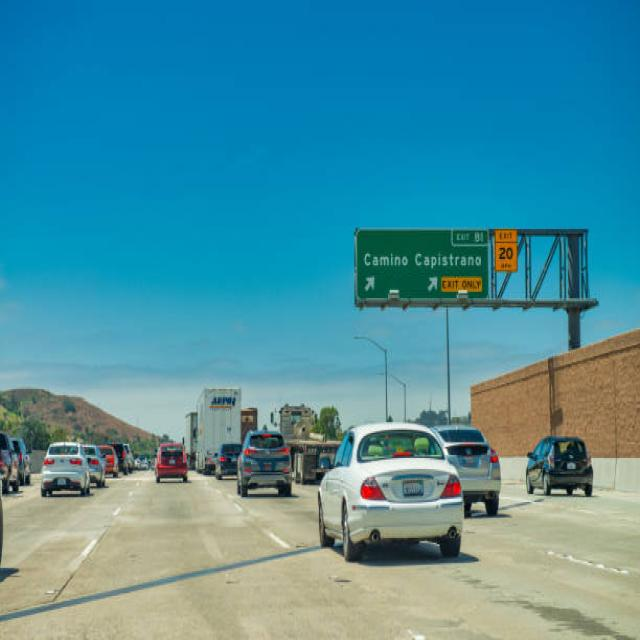Billboard_RHS: (354, 222, 491, 310), (493, 227, 592, 312)
Roadlane: (194, 471, 429, 629), (28, 471, 153, 608), (472, 512, 639, 605)
